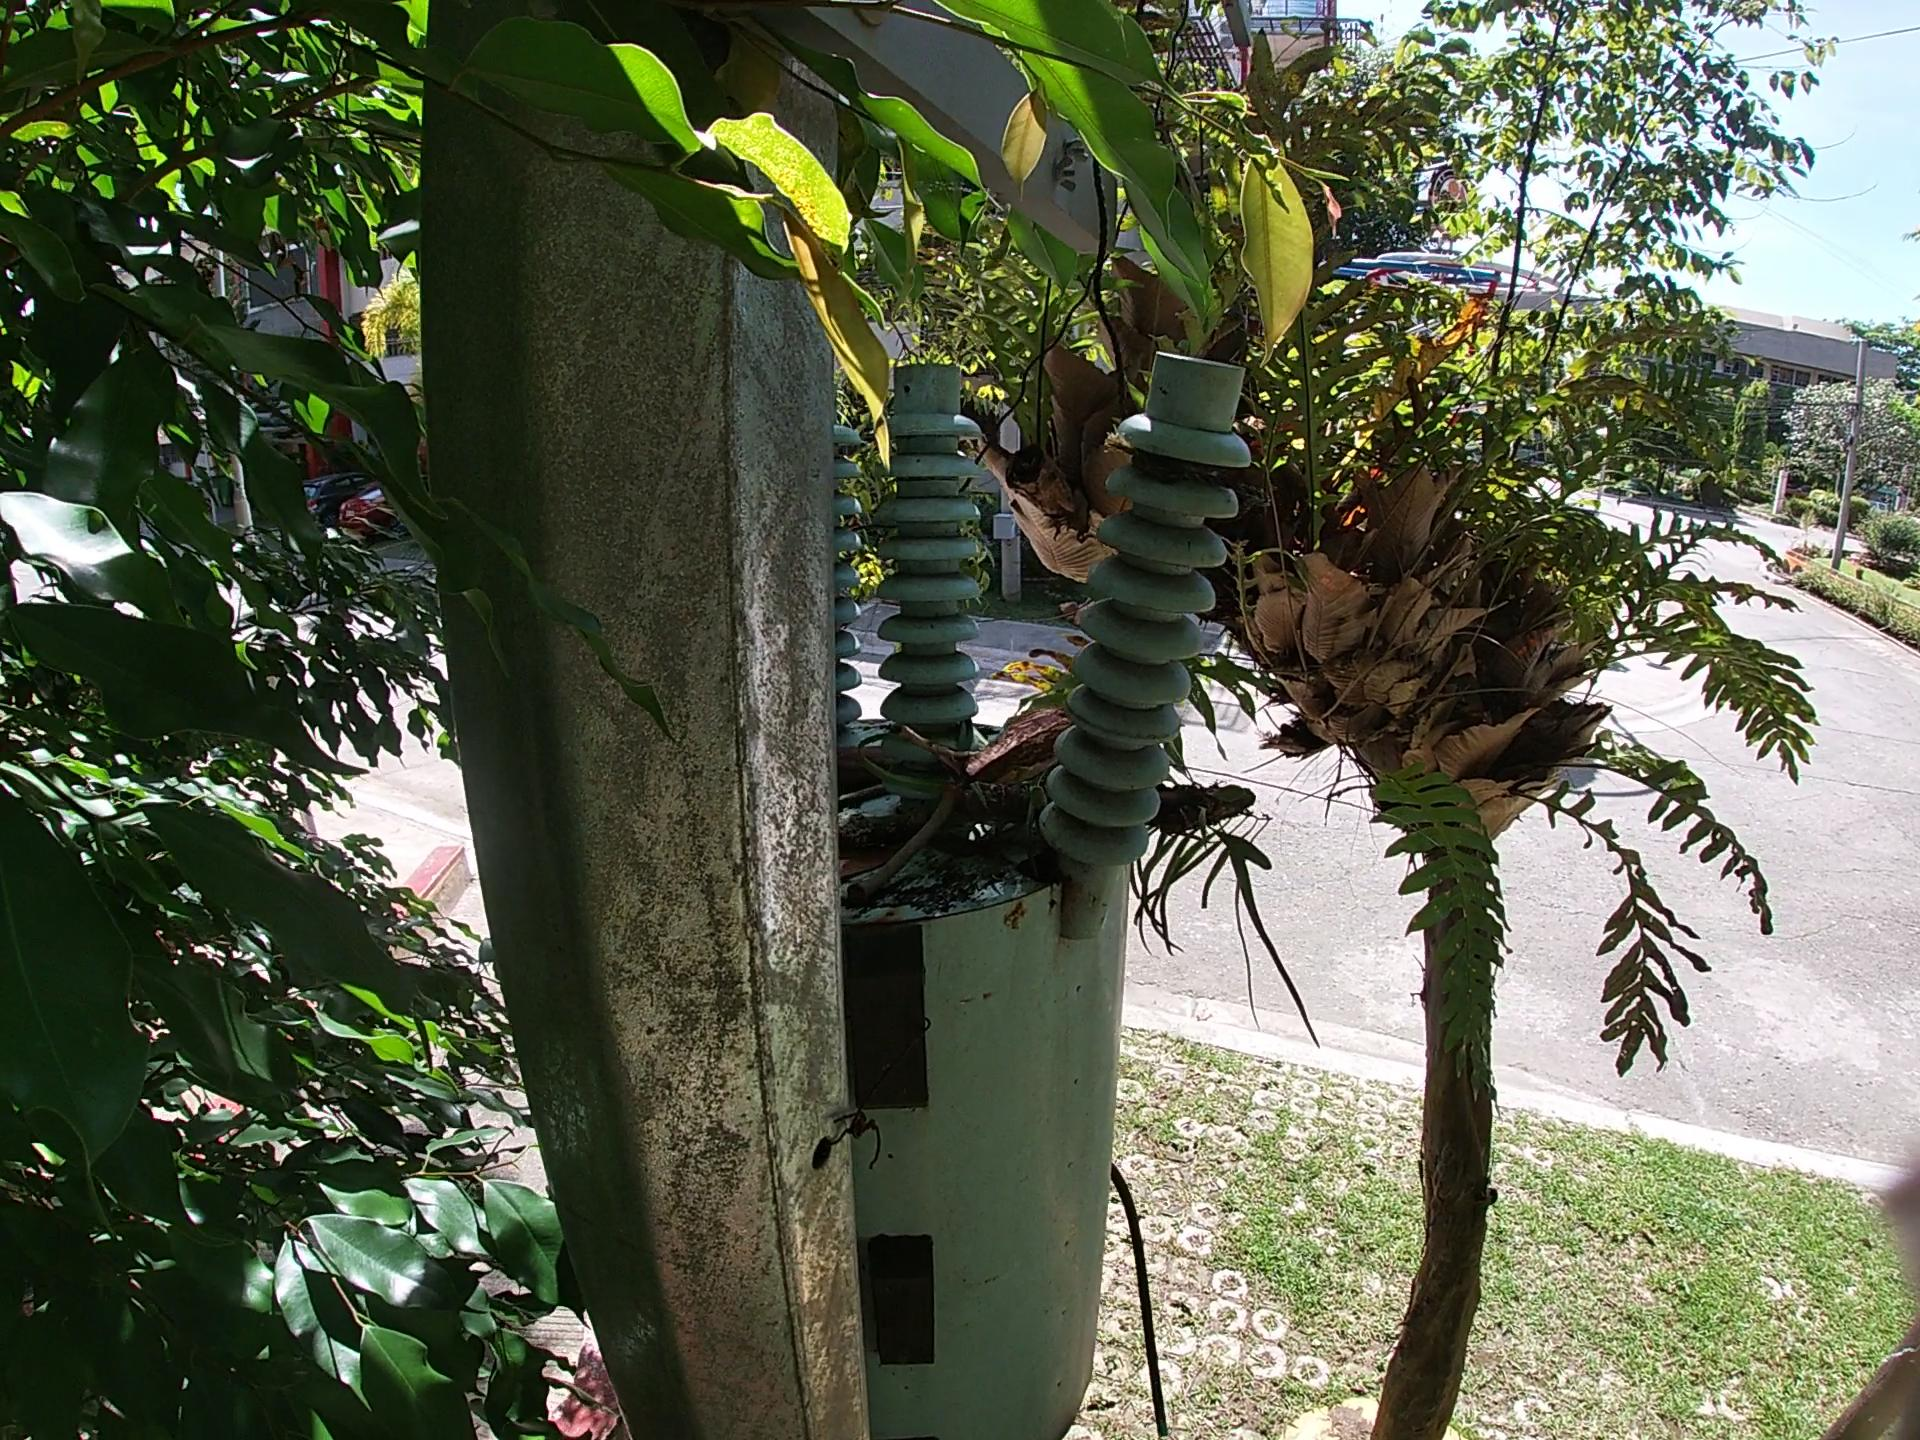branch with leaves: (825, 768, 1274, 835)
leaf: (819, 797, 930, 944)
tree branch: (887, 740, 1454, 849), (893, 773, 954, 906)
